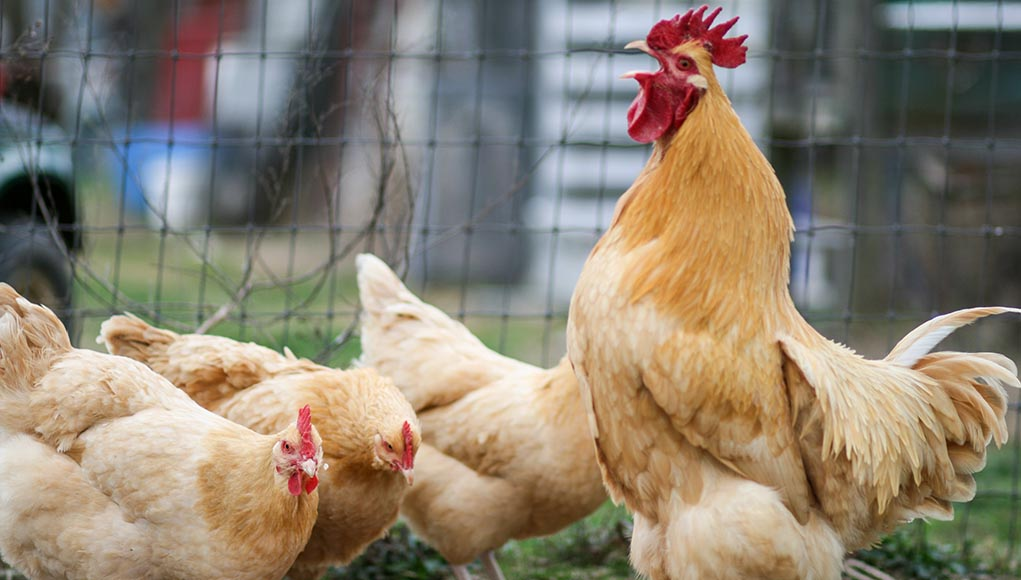buff: (580, 14, 939, 575), (183, 398, 326, 580), (352, 386, 449, 565)
